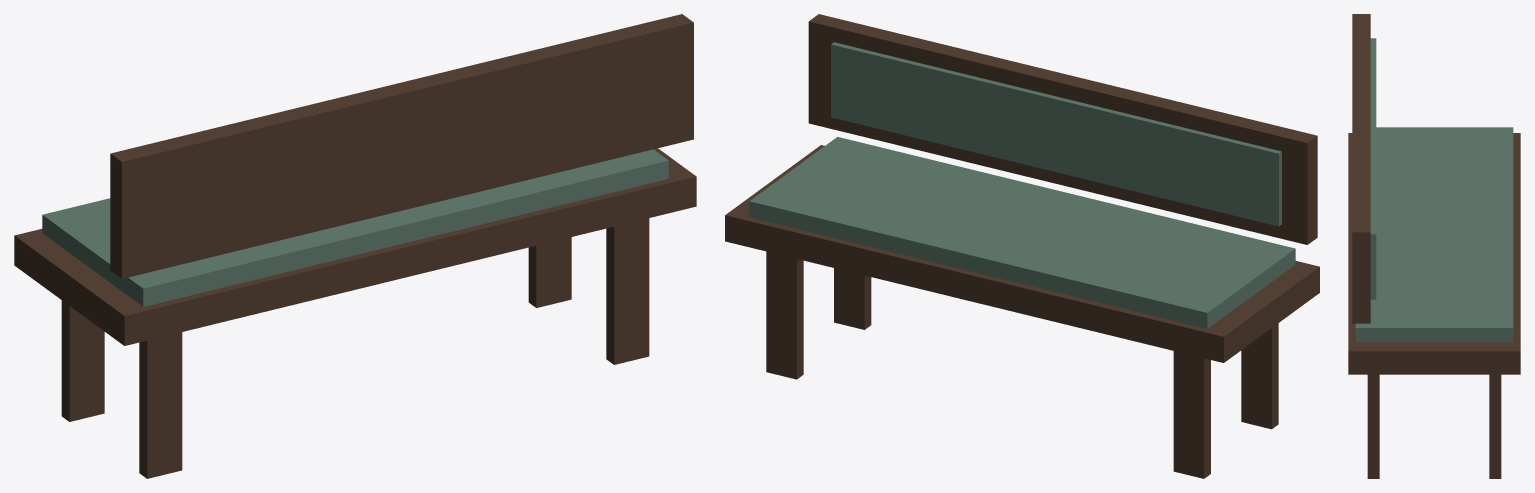
Rendered from LP_ArtGallery_BenchNorth.fbx.
3 renders of one model, left to right at view 1: azimuth 30°, elevation 25°; view 2: azimuth 150°, elevation 25°; view 3: azimuth 270°, elevation 25°, orthographic. The views are drawn at different scales.
Visible parts, largest first — view 1: Walnut, SageUpholstery; view 2: SageUpholstery, Walnut; view 3: SageUpholstery, Walnut.
Boxes of the visible parts, x1,y1,x2,y2 form: Walnut: (14, 14, 696, 478); SageUpholstery: (42, 149, 668, 306); SageUpholstery: (749, 42, 1295, 328); Walnut: (725, 14, 1319, 478); SageUpholstery: (1355, 38, 1513, 342); Walnut: (1348, 14, 1520, 478).
Size of the model in its own units: 180 by 100 by 60.
